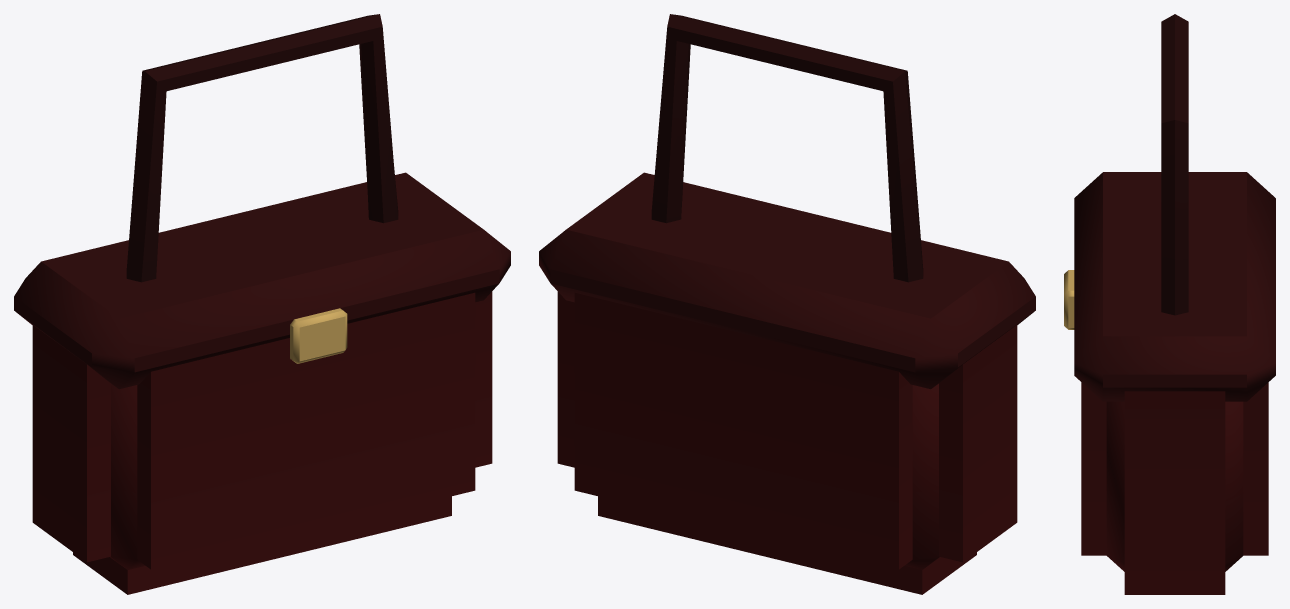
Rendered from mall-bag-handbag.glb.
The picture shows the model from 3 angles, left to right: view 1: azimuth 30°, elevation 25°; view 2: azimuth 150°, elevation 25°; view 3: azimuth 270°, elevation 25°; orthographic projection. The views are drawn at different scales.
Visible parts, largest first — view 1: body__leather, clasp__brass; view 2: body__leather; view 3: body__leather, clasp__brass.
Boxes of the visible parts, x1=… form: body__leather: x1=14, y1=14, x2=510, y2=594; clasp__brass: x1=290, y1=308, x2=347, y2=363; body__leather: x1=539, y1=14, x2=1035, y2=594; body__leather: x1=1074, y1=14, x2=1275, y2=594; clasp__brass: x1=1064, y1=270, x2=1074, y2=329.
Bounding box in the file's own units: 0.31 × 0.3485 × 0.147.
